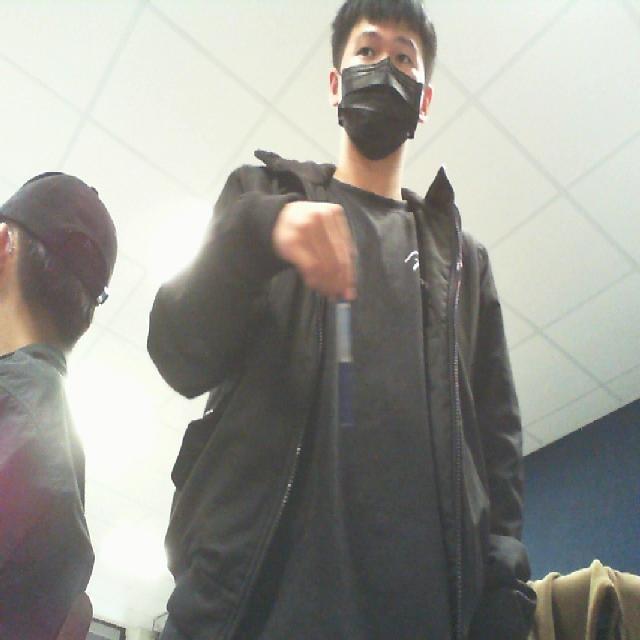Pen: (317, 264, 379, 459)
